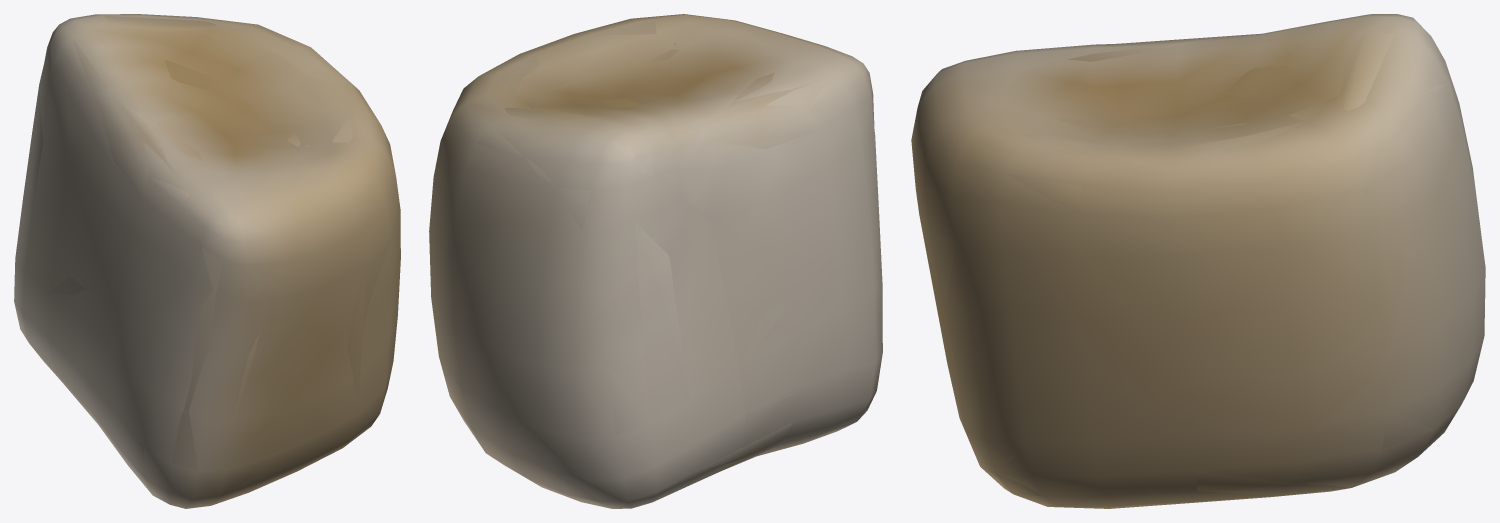
Rendered from R carpi ulnare.fbx.
3 renders of one model, left to right at view 1: azimuth 30°, elevation 25°; view 2: azimuth 150°, elevation 25°; view 3: azimuth 270°, elevation 25°, orthographic. The views are drawn at different scales.
Parts seen in each view (by area): view 1: R carpi ulnare, R carpi ulnare low; view 2: R carpi ulnare, R carpi ulnare low; view 3: R carpi ulnare, R carpi ulnare low.
Part boxes in pixels (x1,y1,x2,y2): R carpi ulnare: (14,14,400,508); R carpi ulnare low: (15,16,391,503); R carpi ulnare: (429,14,882,508); R carpi ulnare low: (439,15,875,508); R carpi ulnare: (911,14,1485,508); R carpi ulnare low: (919,31,1484,506).
Bounding box in the file's own units: 0.8791 × 1.06 × 1.23.
